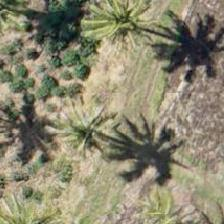Kelapa_Sawit: (44, 87, 134, 177), (74, 0, 164, 66), (126, 174, 217, 223)
